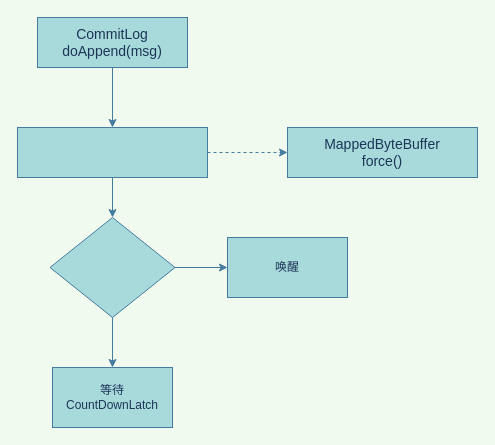
Image size: 495x445. Some labels were removed from this diagram. The shapes that lost their labels are listed below. From the top down, each one's centre as x and y in pixels, then its label:
At (112,152): "FlushCommitLogService".
At (112,267): "SYNC_FLUSH".
